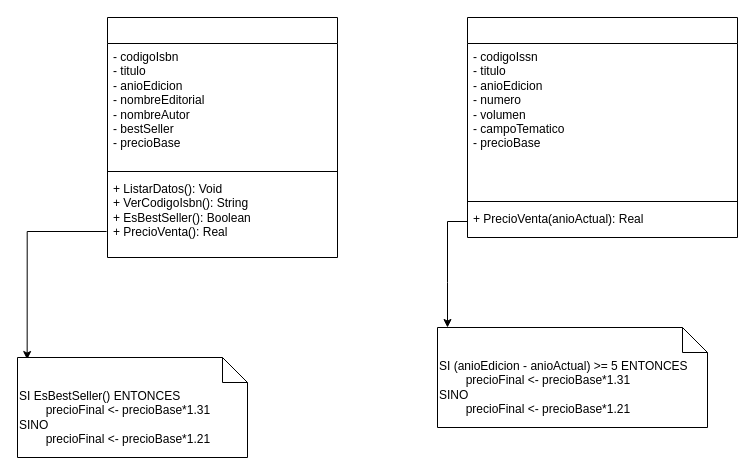
This 755x475 diagram has some shape labels left out. Here are the shapes that lost their labels. From the top down, the box of each, then its label:
(106, 16, 338, 258): Libro
(466, 16, 738, 238): Revista
